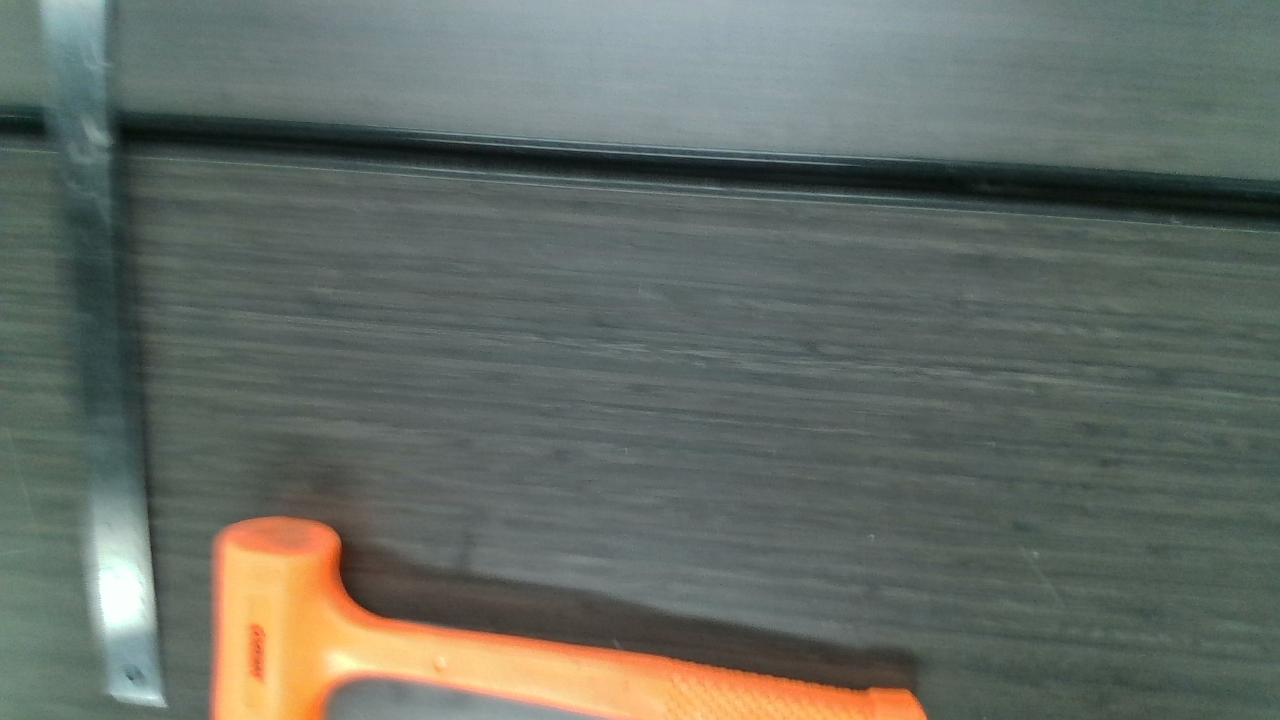Orange Hammer: (216, 518, 936, 718)
